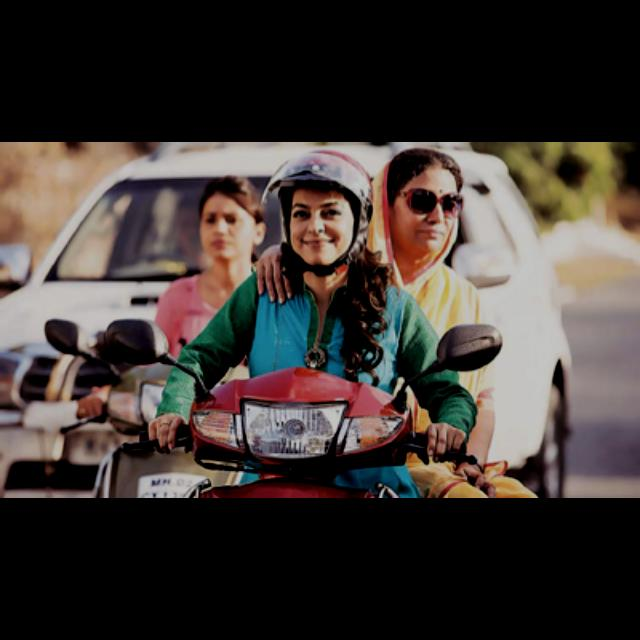With Helmet: (259, 148, 379, 288)
